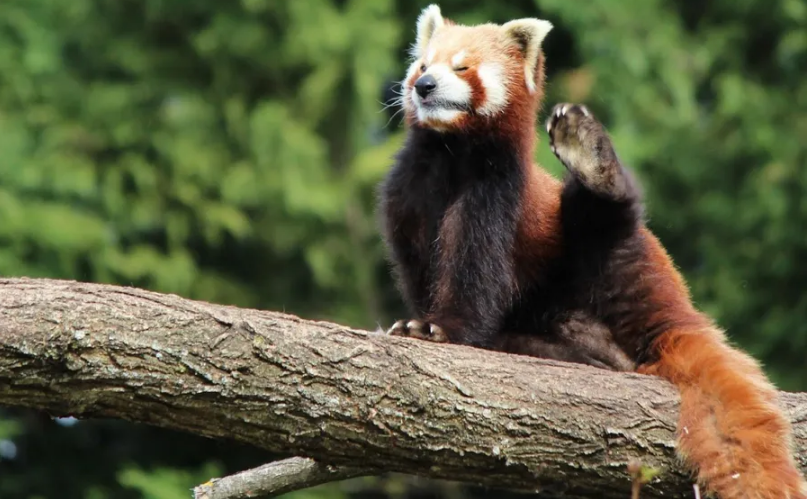red_panda: (381, 2, 680, 366)
